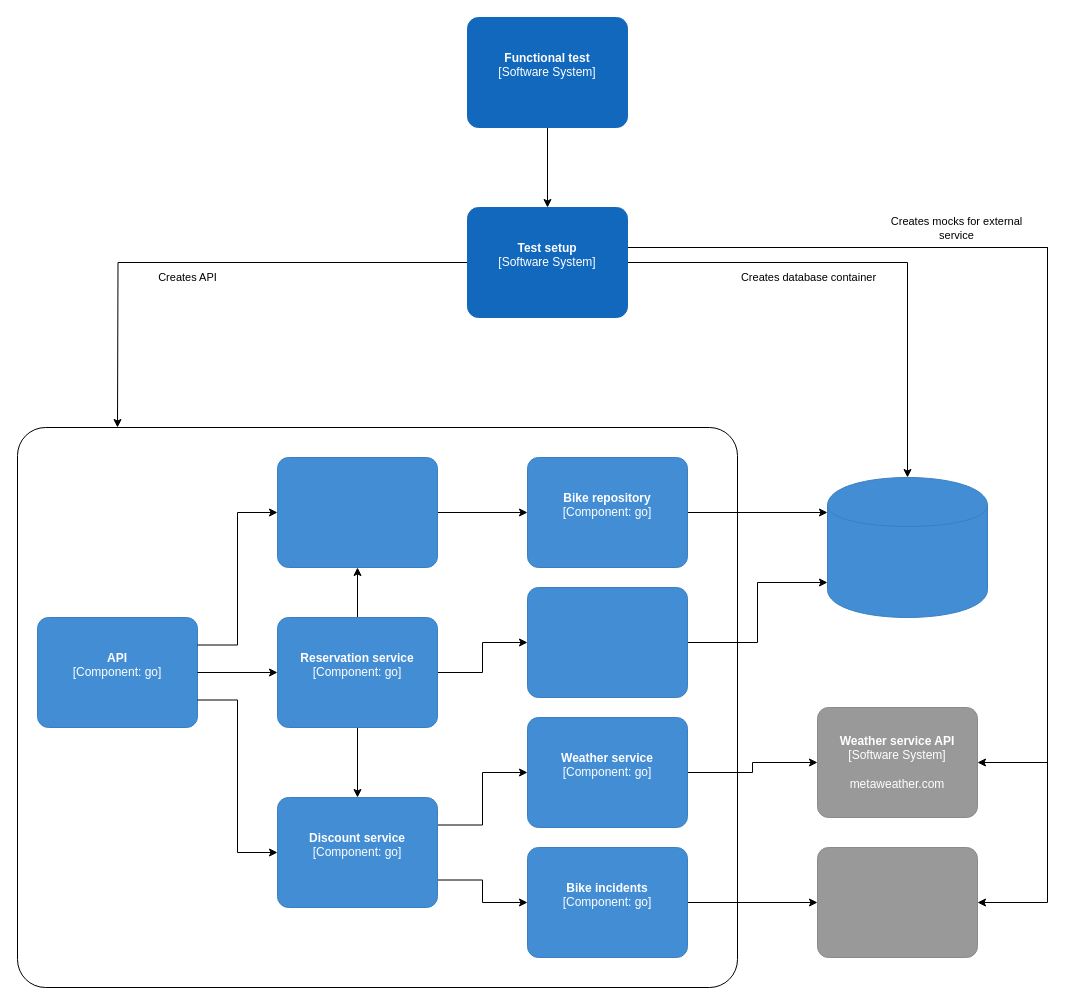
This 1073x1005 diagram has some shape labels left out. The box of each missing label's shape, as (x1, y1, x2, y2) in pixels:
Bike incidents service API [Software System] bikewise.org: (816, 846, 978, 958)
Bike service [Component: go]: (276, 456, 438, 568)
Database [Container: BoltDB] Local database: (826, 476, 988, 618)
Rental API [Rental service]: (16, 426, 738, 988)
Reservations repository [Component: go]: (526, 586, 688, 698)
